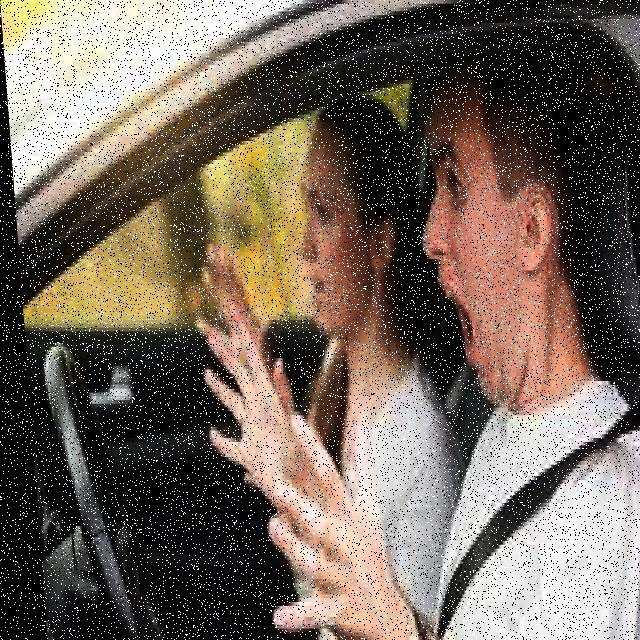seatbelt: (392, 369, 640, 640)
